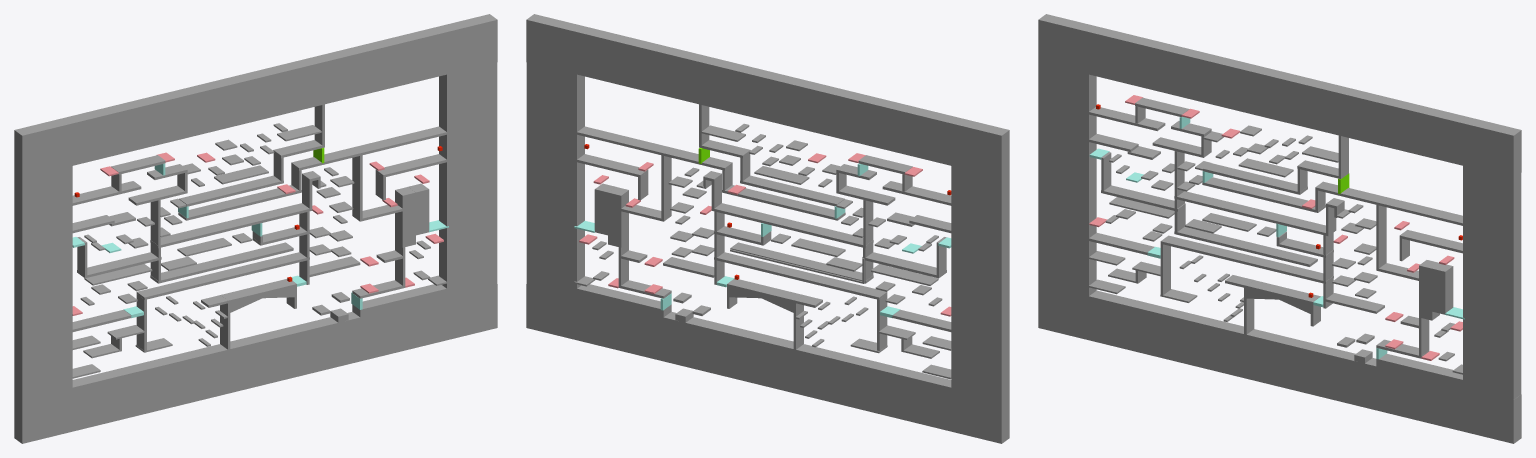
File: mapFinal.fbx
3 renders of one model, left to right at view 1: azimuth 30°, elevation 25°; view 2: azimuth 150°, elevation 25°; view 3: azimuth 330°, elevation 25°, orthographic.
Visible parts, largest first — view 1: pCube2, Edge, pCube3, pCube4, pCube52, pCube18, pCube15, pCube11, pCube6, pCube17, pCube26, pCube14 (+19 smaller); view 2: pCube2, Edge, pCube3, pCube4, pCube52, pCube18, pCube15, pCube11, pCube6, pCube17, pCube26, pCube14 (+18 smaller); view 3: pCube2, Edge, pCube4, pCube3, pCube18, pCube15, pCube11, pCube6, pCube17, pCube14, pCube27, pCube13 (+18 smaller).
Boxes of the visible parts, bbox=[...] form: pCube2: bbox=[14, 14, 497, 177]; Edge: bbox=[14, 284, 497, 443]; pCube3: bbox=[14, 166, 72, 399]; pCube4: bbox=[439, 62, 497, 296]; pCube52: bbox=[14, 14, 496, 176]; pCube18: bbox=[136, 252, 309, 299]; pCube15: bbox=[150, 203, 312, 248]; pCube11: bbox=[291, 126, 446, 170]; pCube6: bbox=[352, 284, 446, 317]; pCube17: bbox=[150, 242, 293, 283]; pCube26: bbox=[395, 187, 415, 247]; pCube14: bbox=[178, 185, 301, 220]; pCube2: bbox=[526, 14, 1009, 177]; Edge: bbox=[526, 284, 1009, 443]; pCube3: bbox=[951, 166, 1009, 399]; pCube4: bbox=[526, 62, 584, 296]; pCube52: bbox=[529, 16, 992, 172]; pCube18: bbox=[714, 252, 887, 299]; pCube15: bbox=[711, 203, 873, 248]; pCube11: bbox=[577, 126, 732, 170]; pCube6: bbox=[577, 284, 671, 317]; pCube17: bbox=[730, 242, 873, 283]; pCube26: bbox=[608, 187, 628, 247]; pCube14: bbox=[722, 185, 845, 220]; pCube2: bbox=[1038, 14, 1521, 177]; Edge: bbox=[1038, 284, 1521, 443]; pCube4: bbox=[1463, 166, 1521, 399]; pCube3: bbox=[1038, 62, 1096, 296]; pCube18: bbox=[1160, 235, 1333, 283]; pCube15: bbox=[1174, 191, 1336, 236]; pCube11: bbox=[1315, 181, 1463, 225]; pCube6: bbox=[1376, 353, 1462, 387]; pCube17: bbox=[1174, 227, 1317, 266]; pCube14: bbox=[1202, 177, 1325, 212]; pCube27: bbox=[1431, 263, 1453, 314]; pCube13: bbox=[1203, 163, 1307, 194].
Size of the model in its own units: 10323 by 6395 by 324.
